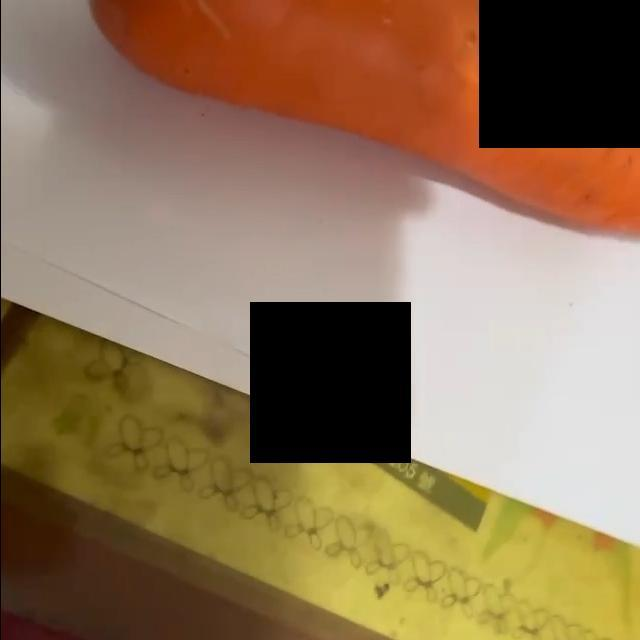carrot: (4, 1, 640, 238)
